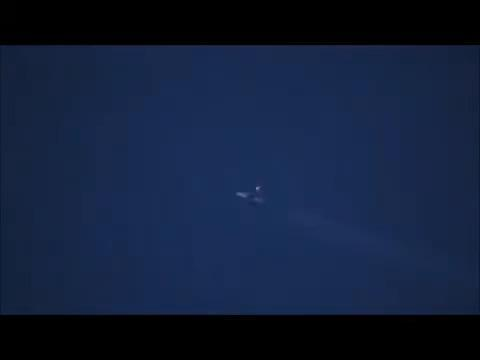Plane: (220, 177, 282, 214)
